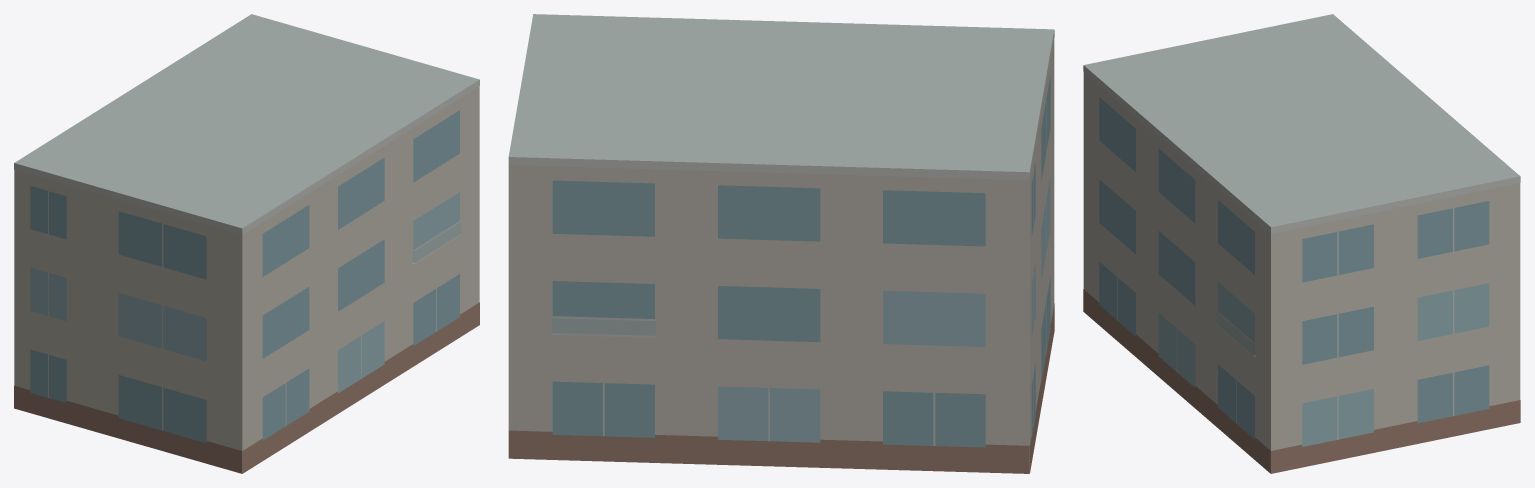
The model's file is survey-upis-32698037.glb.
3 views of the same model, side by side, from view 1: azimuth 30°, elevation 25°; view 2: azimuth 150°, elevation 25°; view 3: azimuth 270°, elevation 25° (orthographic). The views are drawn at different scales.
Parts seen in each view (by area): view 1: survey-upis-32698037.tmp; view 2: survey-upis-32698037.tmp; view 3: survey-upis-32698037.tmp.
Boxes of the visible parts, left/top/right/bottom form: survey-upis-32698037.tmp: left=14, top=14, right=479, bottom=473; survey-upis-32698037.tmp: left=508, top=14, right=1054, bottom=473; survey-upis-32698037.tmp: left=1083, top=14, right=1520, bottom=473.
Bounding box in the file's own units: 16.97 × 9.15 × 14.7.
